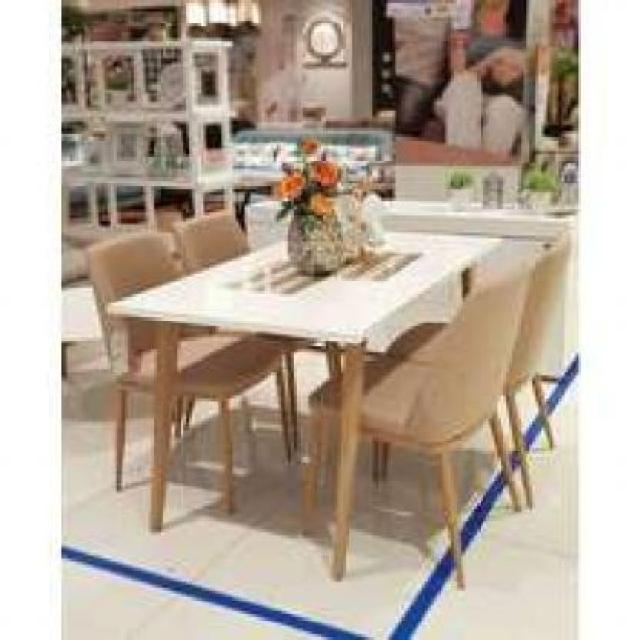tables: (105, 228, 503, 584)
